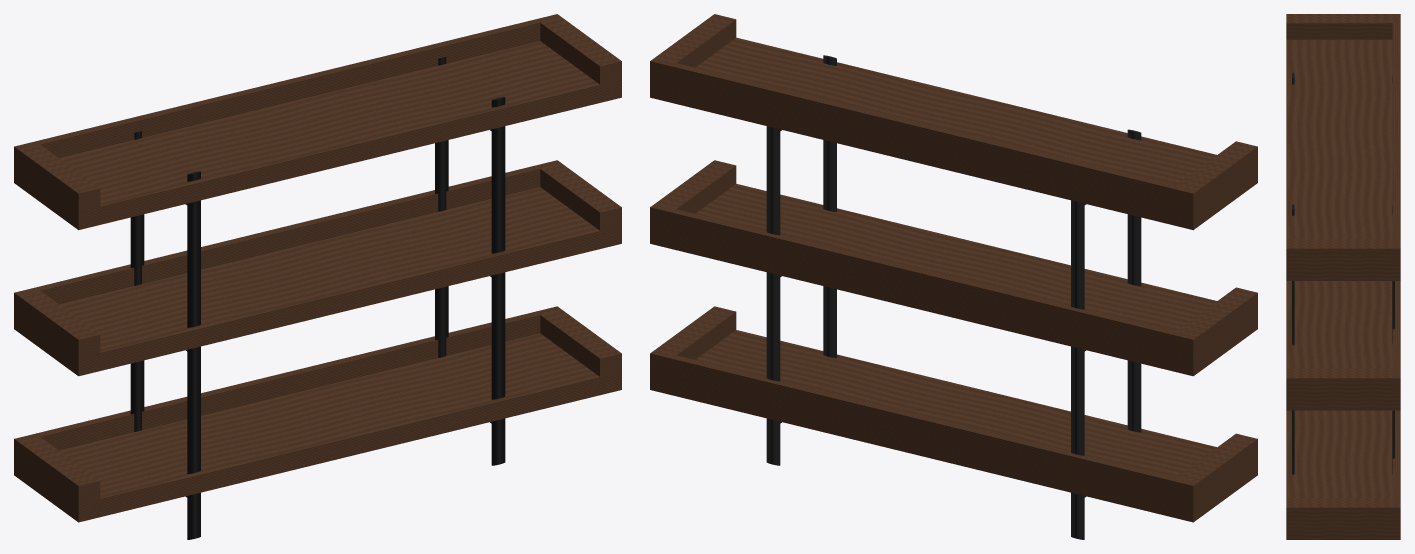
3 renders of one model, left to right at view 1: azimuth 30°, elevation 25°; view 2: azimuth 150°, elevation 25°; view 3: azimuth 270°, elevation 25°, orthographic. The views are drawn at different scales.
Parts seen in each view (by area): view 1: 9 top shelf board, 1 bottom shelf board, 5 middle shelf board, 10 top shelf back lip, 6 middle shelf back lip, 2 bottom shelf back lip, 15 front right metal post, 13 front left metal post, 7 middle shelf left lip, 3 bottom shelf left lip, 11 top shelf left lip, 4 bottom shelf right lip (+4 smaller); view 2: 9 top shelf board, 1 bottom shelf board, 5 middle shelf board, 2 bottom shelf back lip, 6 middle shelf back lip, 10 top shelf back lip, 16 back right metal post, 14 back left metal post, 7 middle shelf left lip, 11 top shelf left lip, 3 bottom shelf left lip, 12 top shelf right lip (+4 smaller); view 3: 9 top shelf board, 1 bottom shelf board, 5 middle shelf board, 8 middle shelf right lip, 4 bottom shelf right lip, 12 top shelf right lip, 11 top shelf left lip, 10 top shelf back lip, 6 middle shelf back lip, 2 bottom shelf back lip, 15 front right metal post, 16 back right metal post.
Boxes of the visible parts, x1,y1,x2,y2 form: 9 top shelf board: (14,41,621,230); 1 bottom shelf board: (14,333,621,522); 5 middle shelf board: (14,187,621,376); 10 top shelf back lip: (14,14,561,167); 6 middle shelf back lip: (14,160,561,312); 2 bottom shelf back lip: (14,306,559,459); 15 front right metal post: (491,97,505,465); 13 front left metal post: (187,171,200,539); 7 middle shelf left lip: (14,287,100,357); 3 bottom shelf left lip: (14,433,100,504); 11 top shelf left lip: (14,144,100,211); 4 bottom shelf right lip: (537,306,621,376); 9 top shelf board: (650,37,1257,230); 1 bottom shelf board: (650,330,1257,522); 5 middle shelf board: (650,183,1257,376); 2 bottom shelf back lip: (650,351,1197,504); 6 middle shelf back lip: (650,204,1197,357); 10 top shelf back lip: (650,59,1197,211); 16 back right metal post: (766,126,780,465); 14 back left metal post: (1071,200,1084,539); 7 middle shelf left lip: (1171,287,1257,356); 11 top shelf left lip: (1171,141,1257,211); 3 bottom shelf left lip: (1171,433,1257,503); 12 top shelf right lip: (650,14,736,84); 9 top shelf board: (1286,39,1400,280); 1 bottom shelf board: (1286,410,1400,539); 5 middle shelf board: (1286,281,1400,410); 8 middle shelf right lip: (1286,368,1400,394); 4 bottom shelf right lip: (1286,498,1400,523); 12 top shelf right lip: (1286,239,1400,264); 11 top shelf left lip: (1286,14,1400,39); 10 top shelf back lip: (1392,14,1400,264); 6 middle shelf back lip: (1392,281,1400,394); 2 bottom shelf back lip: (1392,410,1400,523); 15 front right metal post: (1292,204,1294,474); 16 back right metal post: (1392,205,1394,473).
Size of the model in its own units: 1.51 by 1 by 0.31.
Materials: 2 (1 with a texture image).
